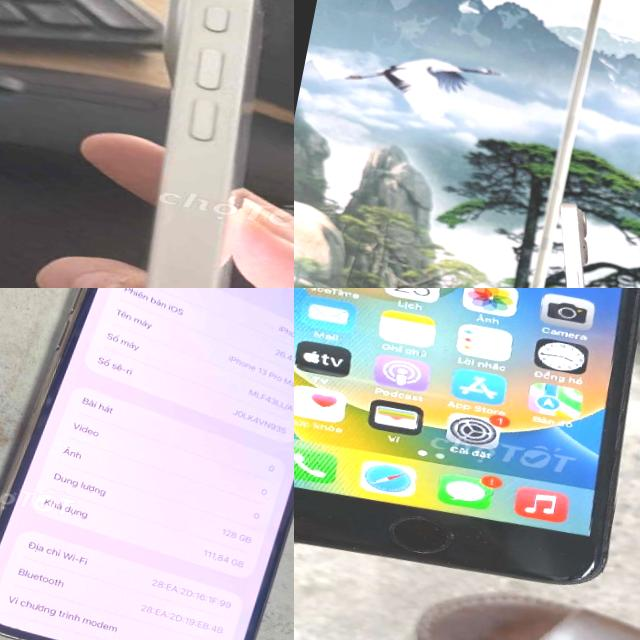gen_12_13: (0, 288, 294, 640)
gen_14: (496, 198, 640, 288)
gen_17: (40, 0, 294, 288)
gen_7_8: (294, 288, 640, 583)
scratch: (549, 546, 615, 603)
